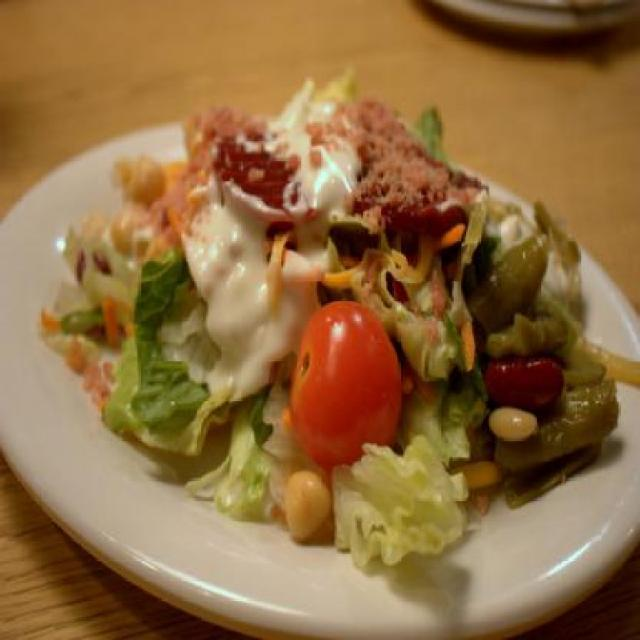Tomato: (288, 303, 404, 463)
